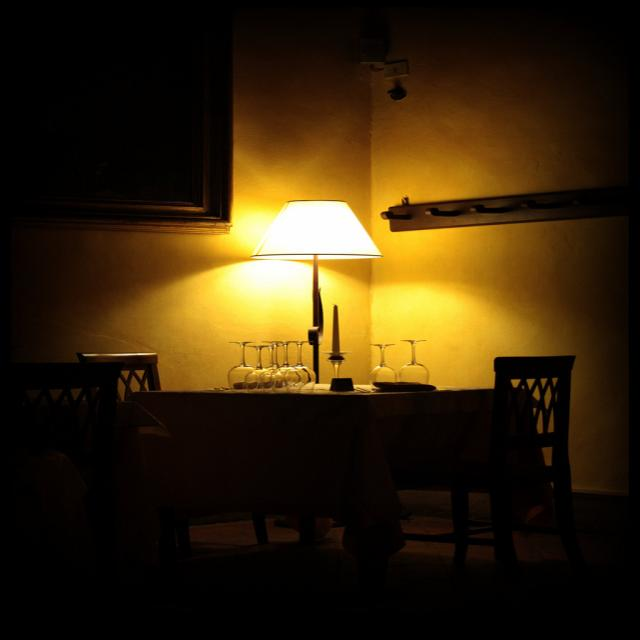Cup: (226, 324, 299, 403), (396, 317, 448, 393), (350, 332, 404, 398), (289, 324, 336, 395)
Table: (138, 379, 503, 591)
chair: (486, 339, 596, 569), (0, 338, 108, 555), (86, 324, 182, 420)
